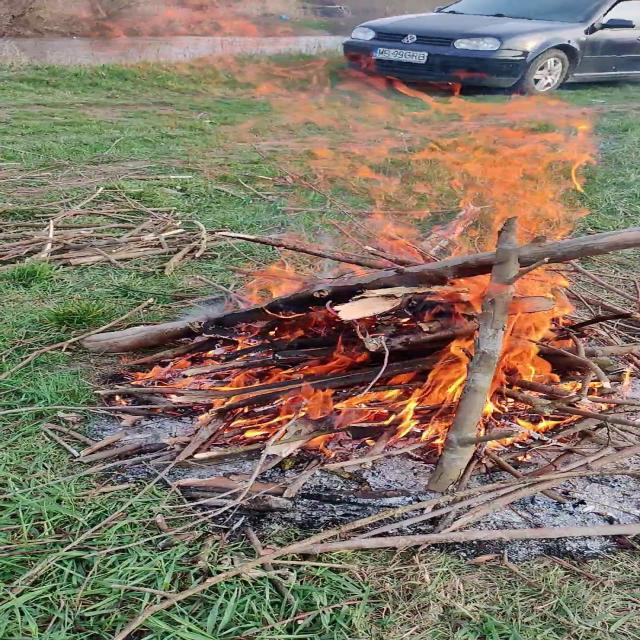Fire: (83, 70, 638, 431)
